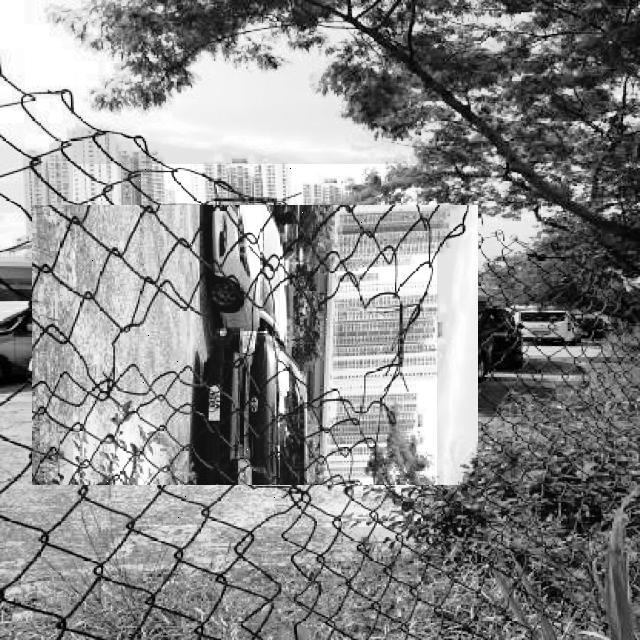anomaly-fence: (73, 164, 437, 527)
